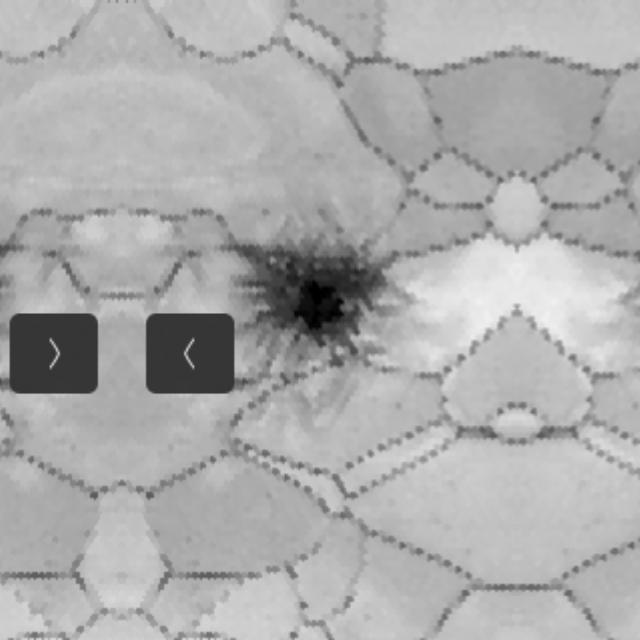good_void: (236, 202, 421, 387), (394, 398, 407, 412), (629, 399, 640, 412)
